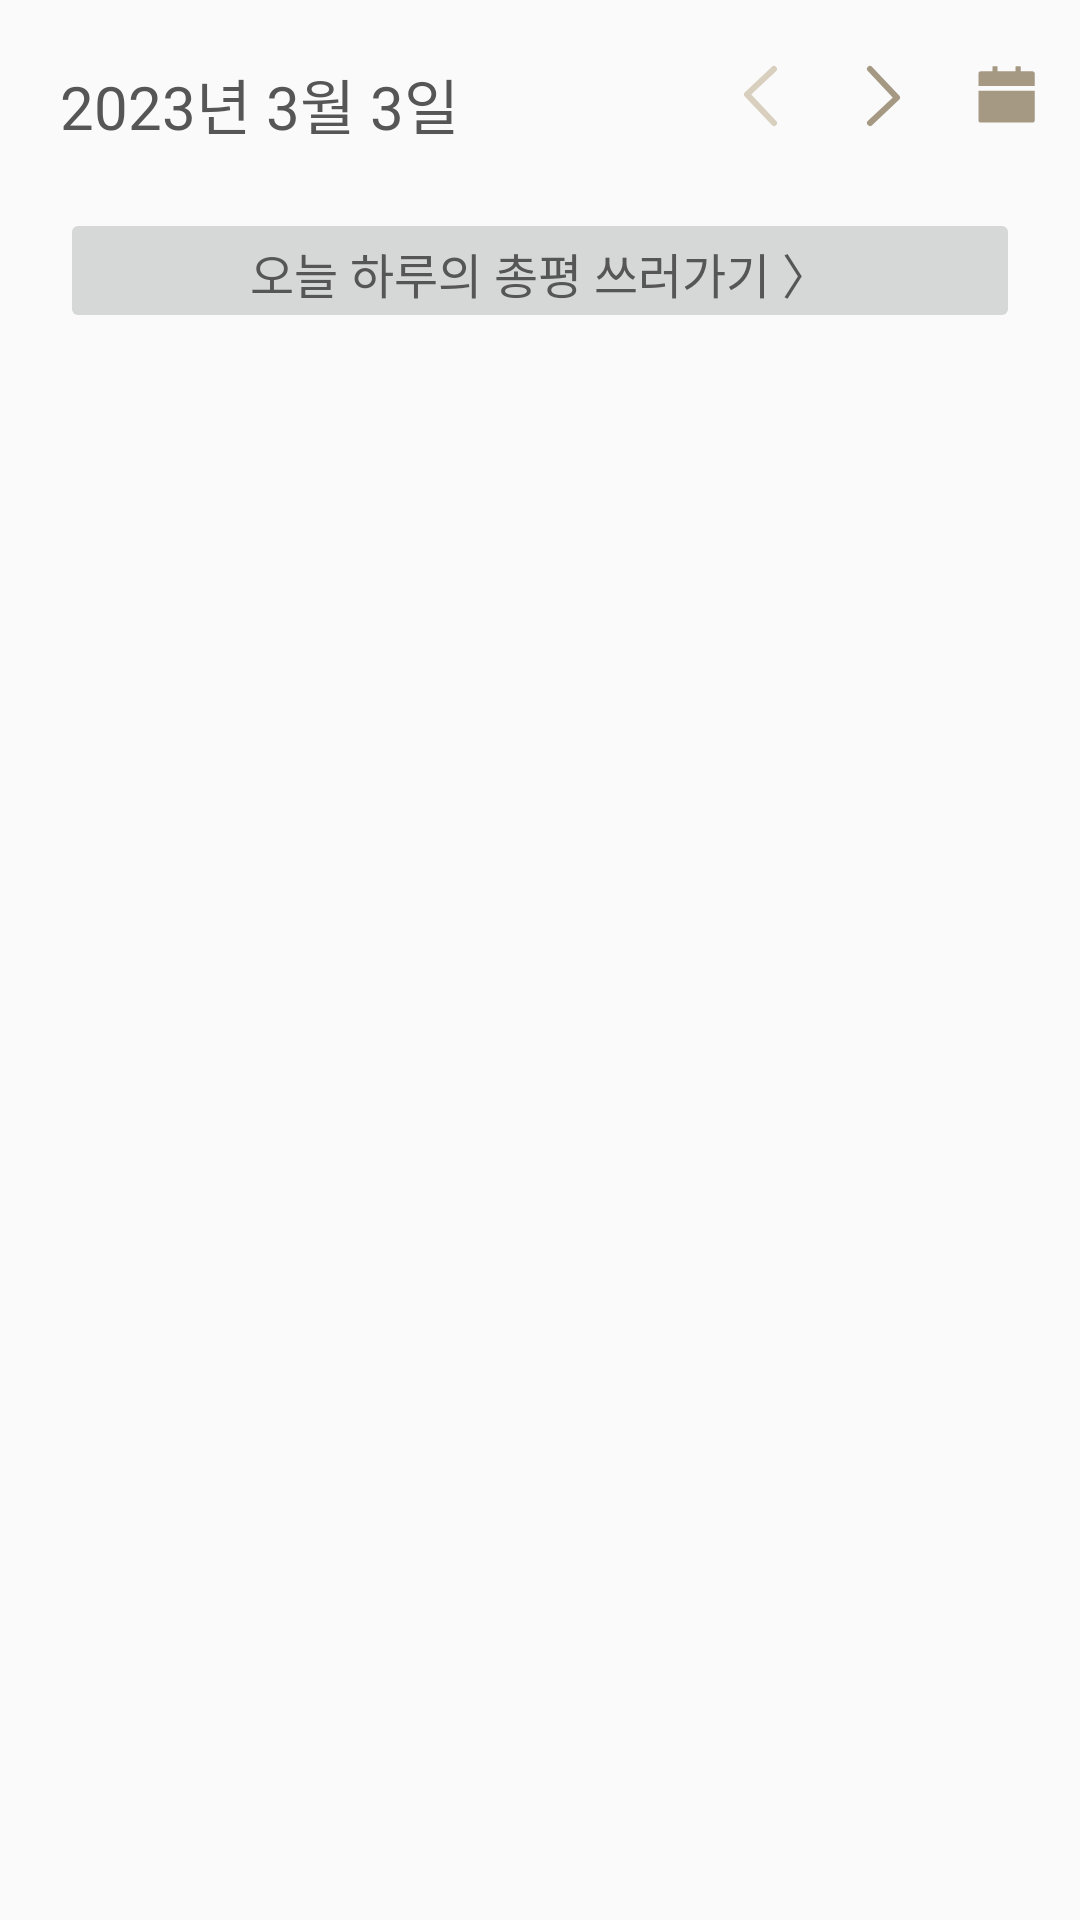

Screen size 1080px×1920px. Icon name, then its center in pixels as (x=x, y=y):
calendar: (x=1006, y=94)
left: (x=760, y=96)
right: (x=883, y=96)
